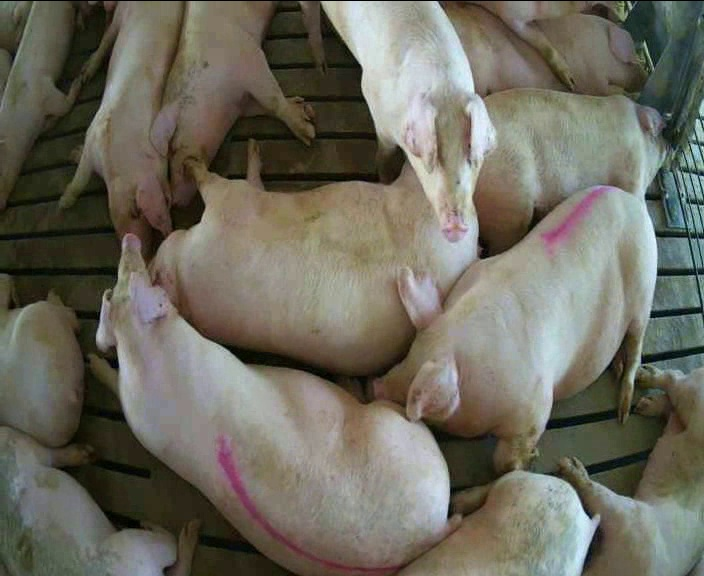pig: (87, 237, 459, 573), (369, 186, 655, 472), (151, 144, 477, 373), (150, 3, 314, 203), (59, 1, 184, 256), (474, 89, 665, 254), (560, 365, 703, 574), (399, 471, 598, 574), (442, 4, 645, 96), (0, 2, 80, 208)
